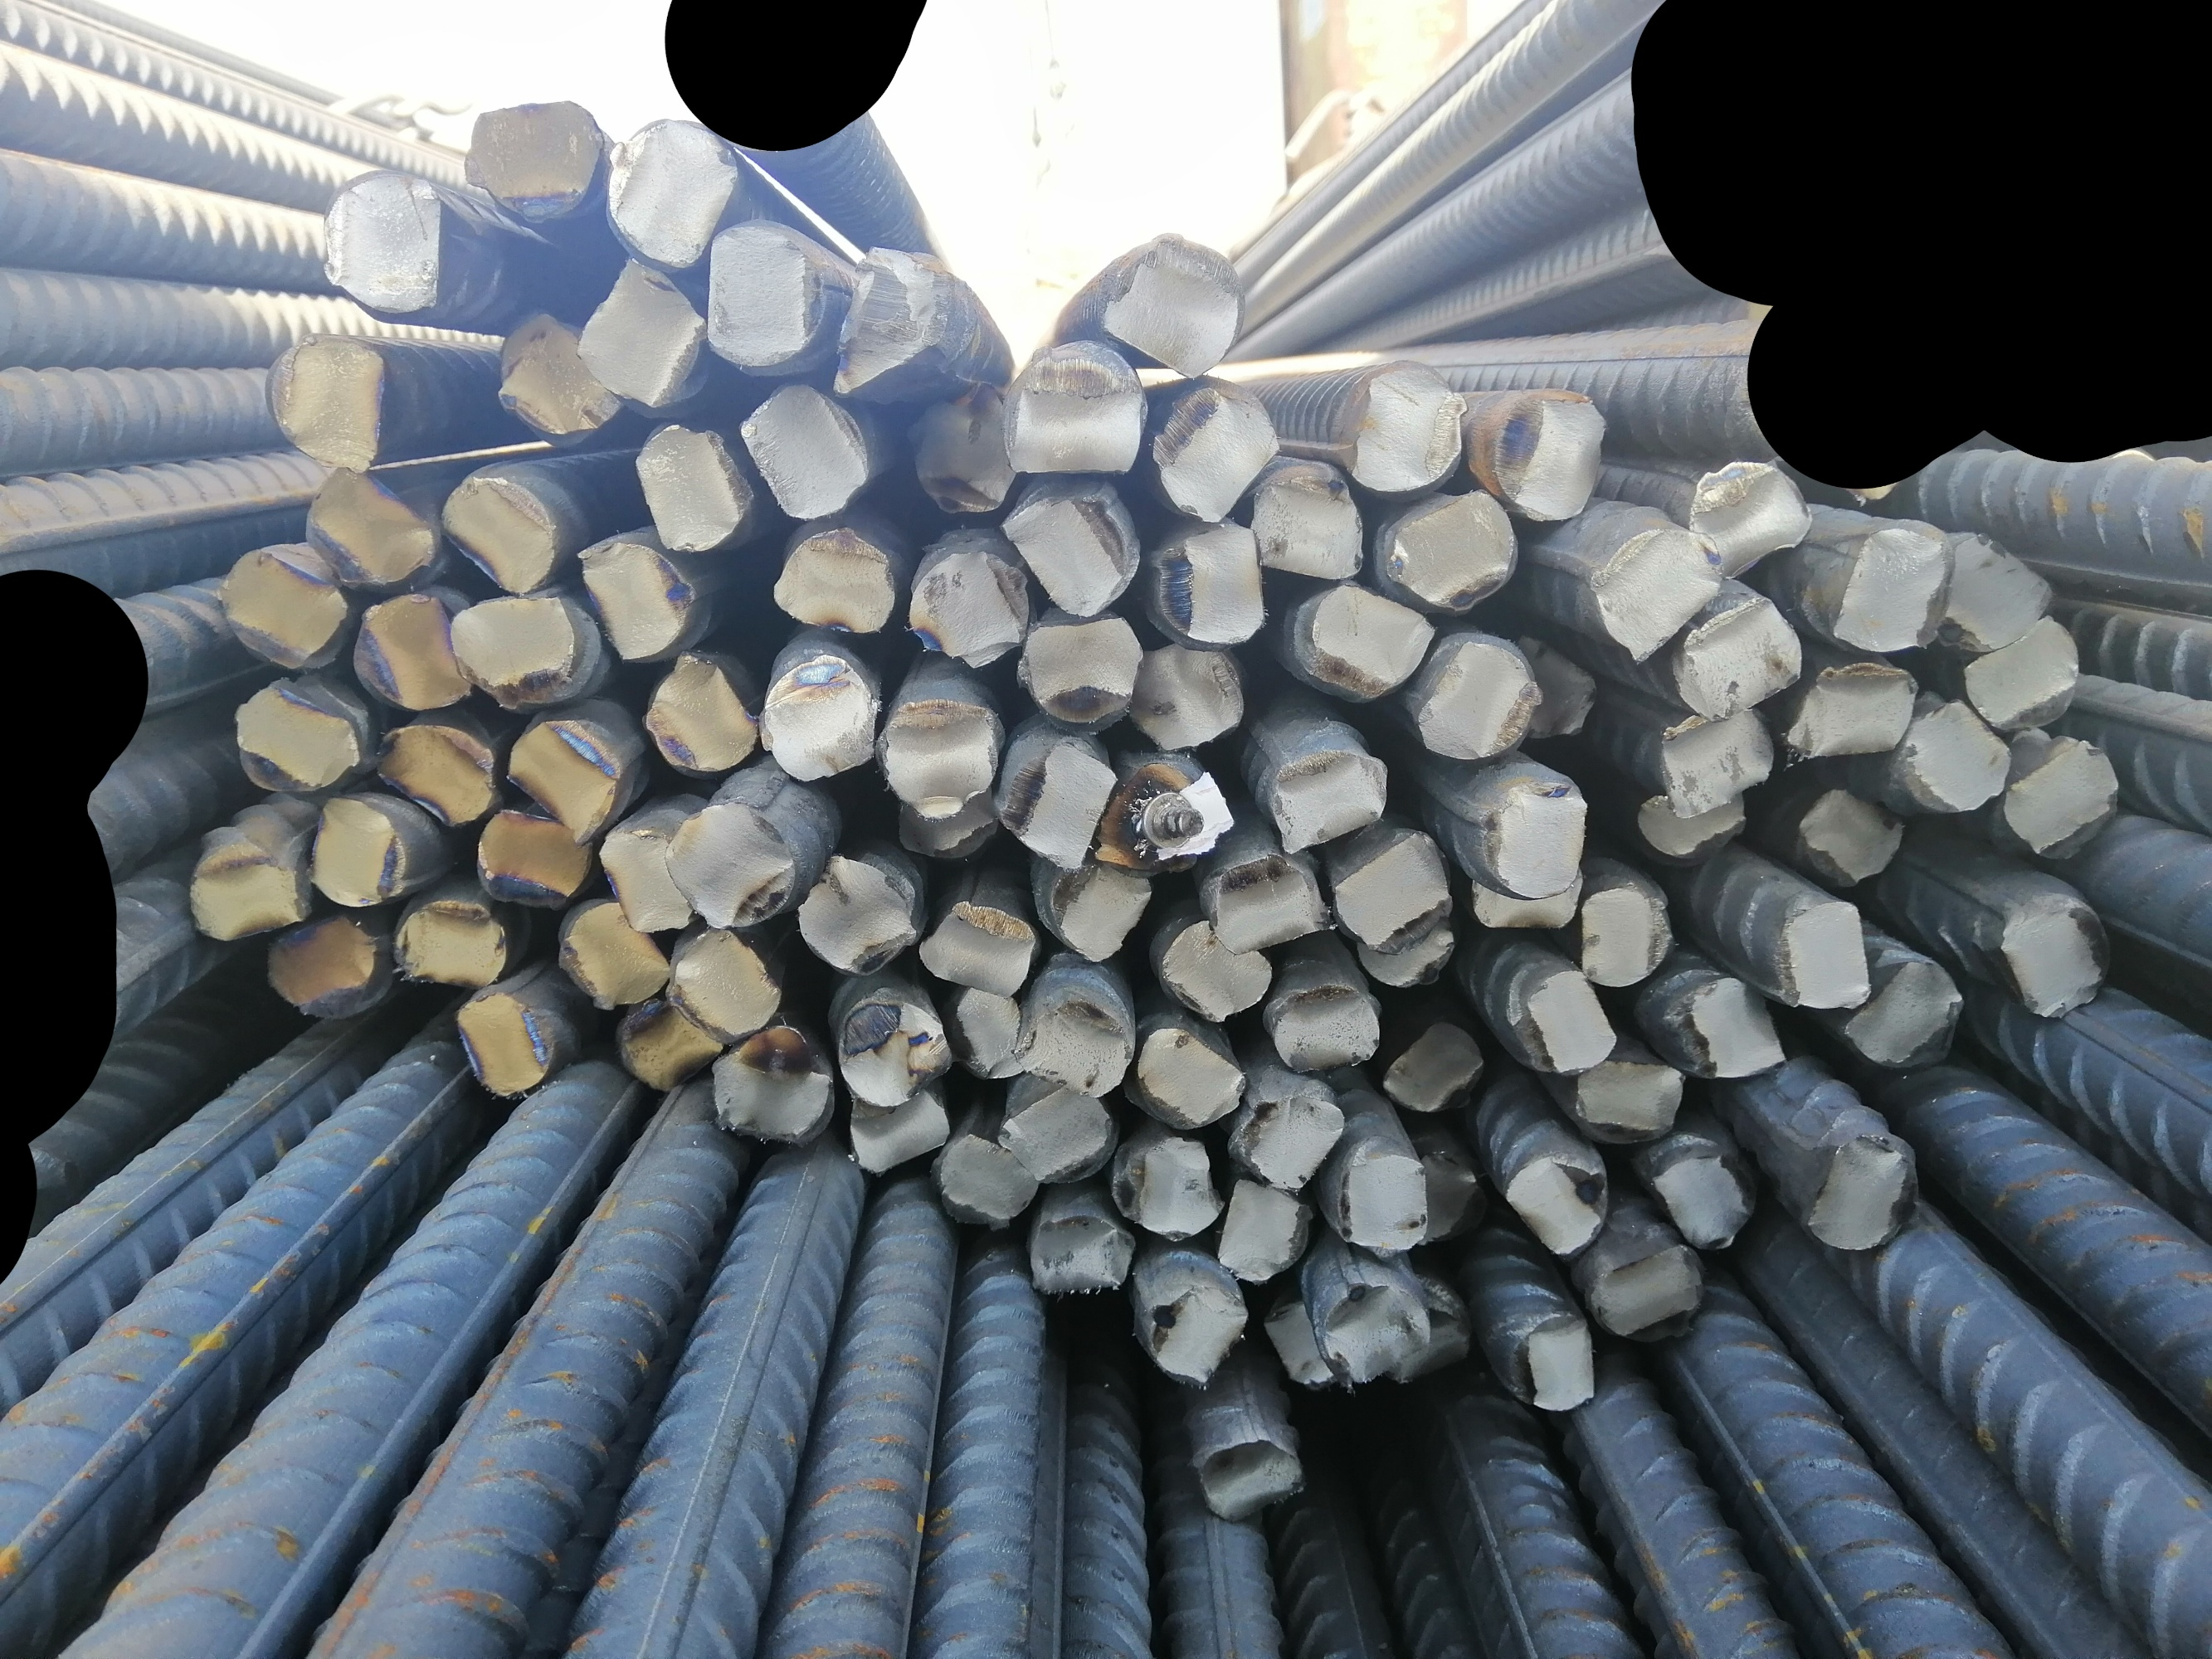rebar: (1096, 227, 1245, 382), (575, 254, 706, 413), (1581, 519, 1724, 664), (997, 343, 1147, 481), (607, 115, 739, 270), (319, 166, 450, 319), (1149, 378, 1286, 523), (460, 91, 605, 227), (736, 376, 872, 519), (999, 484, 1140, 619), (1822, 521, 1959, 657), (1665, 587, 1806, 720), (295, 460, 439, 589), (662, 802, 802, 934), (830, 244, 950, 397), (263, 329, 389, 474), (994, 741, 1124, 878), (899, 538, 1032, 673), (1382, 486, 1520, 615), (1340, 362, 1471, 495), (2001, 734, 2125, 873), (214, 544, 352, 667), (354, 586, 481, 718), (504, 711, 629, 845), (230, 674, 368, 796), (1935, 519, 2057, 657), (1492, 383, 1611, 525), (708, 220, 823, 362), (755, 653, 880, 784), (495, 307, 619, 439), (1091, 753, 1224, 877), (708, 1023, 837, 1148), (1686, 453, 1818, 575), (908, 380, 1023, 519), (833, 986, 959, 1114), (1414, 636, 1539, 763), (795, 847, 919, 976), (877, 692, 1001, 821), (1792, 1133, 1923, 1255), (1147, 516, 1267, 648), (633, 420, 751, 554), (1999, 885, 2116, 1021), (1844, 948, 1968, 1075), (572, 533, 692, 664), (1300, 580, 1435, 697), (450, 594, 580, 713), (439, 471, 561, 596), (1020, 608, 1145, 730), (1332, 823, 1450, 950), (1963, 615, 2086, 732), (662, 929, 788, 1044), (769, 526, 896, 640), (187, 836, 319, 945), (1262, 741, 1394, 849), (1482, 770, 1590, 903), (1248, 464, 1367, 584), (1130, 636, 1248, 755), (453, 985, 570, 1105), (640, 653, 755, 775), (1898, 695, 2017, 812), (556, 892, 669, 1014), (1008, 990, 1131, 1100), (370, 720, 499, 824), (1788, 657, 1919, 760), (1107, 1127, 1224, 1243), (999, 1072, 1117, 1185), (1670, 972, 1788, 1086), (1656, 706, 1773, 819), (1504, 962, 1618, 1077), (1130, 1019, 1248, 1129), (471, 805, 593, 911), (263, 906, 380, 1016), (1321, 1274, 1431, 1391), (1647, 1136, 1757, 1251), (1163, 913, 1274, 1025), (607, 985, 720, 1093), (1044, 852, 1152, 965), (1194, 1425, 1309, 1532), (920, 892, 1037, 997), (589, 821, 695, 934), (307, 795, 408, 913), (1588, 1243, 1706, 1344), (1208, 852, 1327, 953), (934, 1121, 1042, 1230), (1332, 1141, 1435, 1256), (1795, 788, 1914, 887), (1384, 1263, 1476, 1391), (1771, 901, 1876, 1012), (389, 894, 509, 990), (1267, 981, 1382, 1080), (844, 1072, 952, 1176), (1143, 1279, 1248, 1387), (1236, 1093, 1347, 1194), (1567, 1054, 1686, 1148), (1572, 885, 1679, 990), (1497, 1302, 1598, 1412), (1501, 1157, 1607, 1260), (889, 779, 1006, 871), (1210, 1175, 1307, 1281), (948, 976, 1037, 1089), (1381, 1016, 1485, 1112), (1637, 784, 1752, 871), (1034, 1204, 1135, 1302), (1468, 856, 1588, 936), (1351, 906, 1459, 993), (1403, 1145, 1485, 1255), (1518, 640, 1600, 748), (1259, 1295, 1339, 1391)
